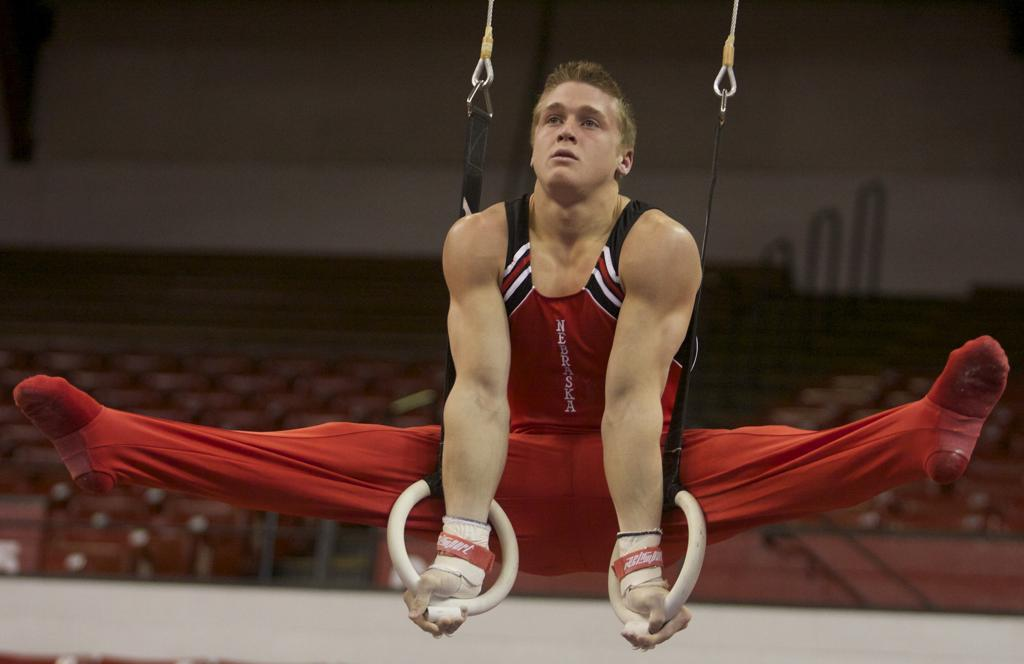face: (531, 91, 621, 191)
